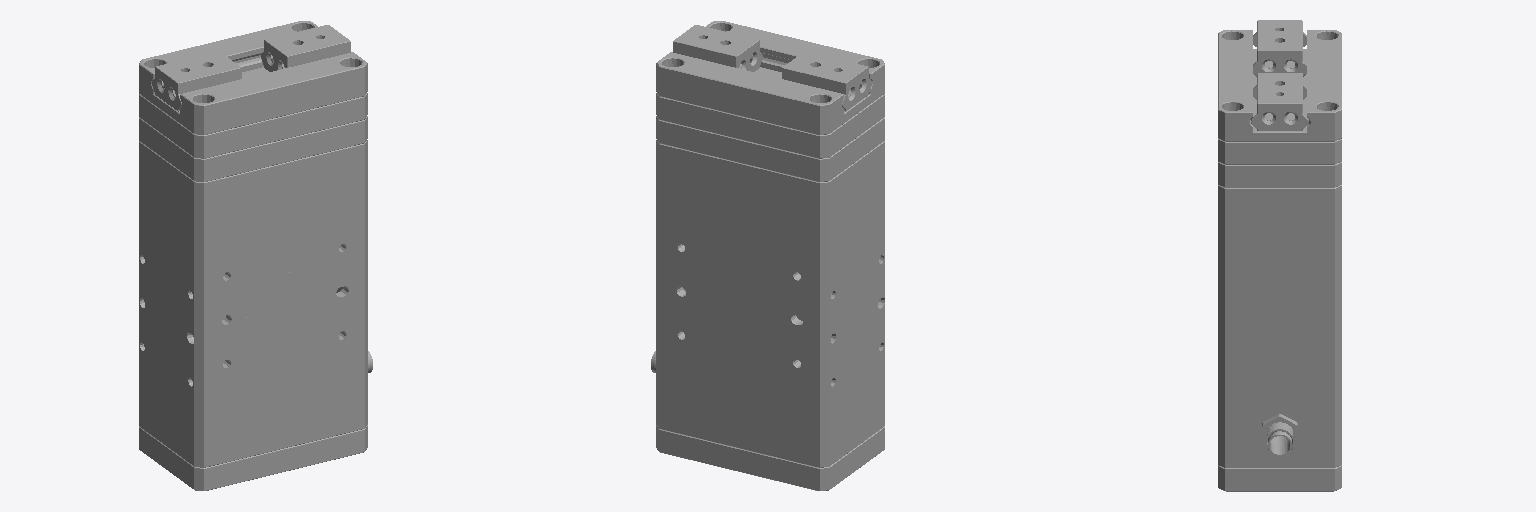
URDF robot description (crt_ctpm14):
<?xml version="1.0" encoding="utf-8"?>
<!-- This URDF was automatically created by SolidWorks to URDF Exporter! Originally created by Stephen Brawner (brawner@gmail.com) 
     Commit Version: 1.6.0-1-g15f4949  Build Version: 1.6.7594.29634
     For more information, please see http://wiki.ros.org/sw_urdf_exporter -->
<robot
  name="crt_ctpm14">
  <link
    name="base_link">
    <inertial>
      <origin
        xyz="-3.3759E-05 2.6591E-18 0.1049"
        rpy="0 0 0" />
      <mass
        value="0.10202" />
      <inertia
        ixx="2.4261E-05"
        ixy="1.1367E-22"
        ixz="-4.2352E-22"
        iyy="3.5094E-05"
        iyz="4.639E-22"
        izz="5.0389E-05" />
    </inertial>
    <visual>
      <origin
        xyz="0 0 0"
        rpy="0 0 0" />
      <geometry>
        <mesh
          filename="package://crt_ctpm14_gripper_visualization/meshes/base_link.STL" />
      </geometry>
      <material
        name="">
        <color
          rgba="0.69804 0.69804 0.69804 1" />
      </material>
    </visual>
    <collision>
      <origin
        xyz="0 0 0"
        rpy="0 0 0" />
      <geometry>
        <mesh
          filename="package://crt_ctpm14_gripper_visualization/meshes/base_link.STL" />
      </geometry>
    </collision>
  </link>
  <link
    name="left_Link">
    <inertial>
      <origin
        xyz="-3.8186E-17 -0.0084622 0.025504"
        rpy="0 0 0" />
      <mass
        value="0.10202" />
      <inertia
        ixx="3.5094E-05"
        ixy="-4.639E-22"
        ixz="1.1367E-22"
        iyy="5.0389E-05"
        iyz="4.2352E-22"
        izz="2.4261E-05" />
    </inertial>
    <visual>
      <origin
        xyz="0 0 0"
        rpy="0 0 0" />
      <geometry>
        <mesh
          filename="package://crt_ctpm14_gripper_visualization/meshes/left_Link.STL" />
      </geometry>
      <material
        name="">
        <color
          rgba="0.69804 0.69804 0.69804 1" />
      </material>
    </visual>
    <collision>
      <origin
        xyz="0 0 0"
        rpy="0 0 0" />
      <geometry>
        <mesh
          filename="package://crt_ctpm14_gripper_visualization/meshes/left_Link.STL" />
      </geometry>
    </collision>
  </link>
  <joint
    name="left_joint"
    type="prismatic">
    <origin
      xyz="0.02547 0 0.11336"
      rpy="1.5708 0 -1.5708" />
    <parent
      link="base_link" />
    <child
      link="left_Link" />
    <axis
      xyz="0 0 -1" />
    <limit
      lower="0"
      upper="-0.007"
      effort="1"
      velocity="0.05" />
  </joint>
  <link
    name="right_Link">
    <inertial>
      <origin
        xyz="3.696E-17 0.0084622 0.025504"
        rpy="0 0 0" />
      <mass
        value="0.10202" />
      <inertia
        ixx="3.5094E-05"
        ixy="4.639E-22"
        ixz="-1.1367E-22"
        iyy="5.0389E-05"
        iyz="4.2352E-22"
        izz="2.4261E-05" />
    </inertial>
    <visual>
      <origin
        xyz="0 0 0"
        rpy="0 0 0" />
      <geometry>
        <mesh
          filename="package://crt_ctpm14_gripper_visualization/meshes/right_Link.STL" />
      </geometry>
      <material
        name="">
        <color
          rgba="0.69804 0.69804 0.69804 1" />
      </material>
    </visual>
    <collision>
      <origin
        xyz="0 0 0"
        rpy="0 0 0" />
      <geometry>
        <mesh
          filename="package://crt_ctpm14_gripper_visualization/meshes/right_Link.STL" />
      </geometry>
    </collision>
  </link>
  <joint
    name="right_joint"
    type="prismatic">
    <origin
      xyz="-0.025538 0 0.11336"
      rpy="-1.5708 0 -1.5708" />
    <parent
      link="base_link" />
    <child
      link="right_Link" />
    <axis
      xyz="0 0 -1" />
    <limit
      lower="0"
      upper="-0.007"
      effort="1"
      velocity="0.05" />
  </joint>
</robot>

--- Render facts (derived) ---
Views: 3 orthographic renders of the robot side by side, from view 1: azimuth 30°, elevation 25°; view 2: azimuth 150°, elevation 25°; view 3: azimuth 270°, elevation 25°.
Model crt_ctpm14 with 3 links and 2 joints (2 prismatic), rooted at base_link, posed all joints at 0.
Visible links, largest first — view 1: base_link, right_Link, left_Link; view 2: base_link, right_Link, left_Link; view 3: base_link, left_Link, right_Link.
Boxes of the visible links, <box> form: base_link: <box>139,21,372,490</box>; right_Link: <box>152,51,241,111</box>; left_Link: <box>261,25,350,71</box>; base_link: <box>651,21,884,490</box>; right_Link: <box>782,51,871,111</box>; left_Link: <box>673,25,762,71</box>; base_link: <box>1218,30,1341,491</box>; left_Link: <box>1251,73,1308,130</box>; right_Link: <box>1253,20,1306,76</box>.
Size in the robot's own frame: 0.0625 by 0.034 by 0.1177 metres.
Meshes: 3 distinct files referenced, 3 mesh visuals loaded (3 binary STL).
